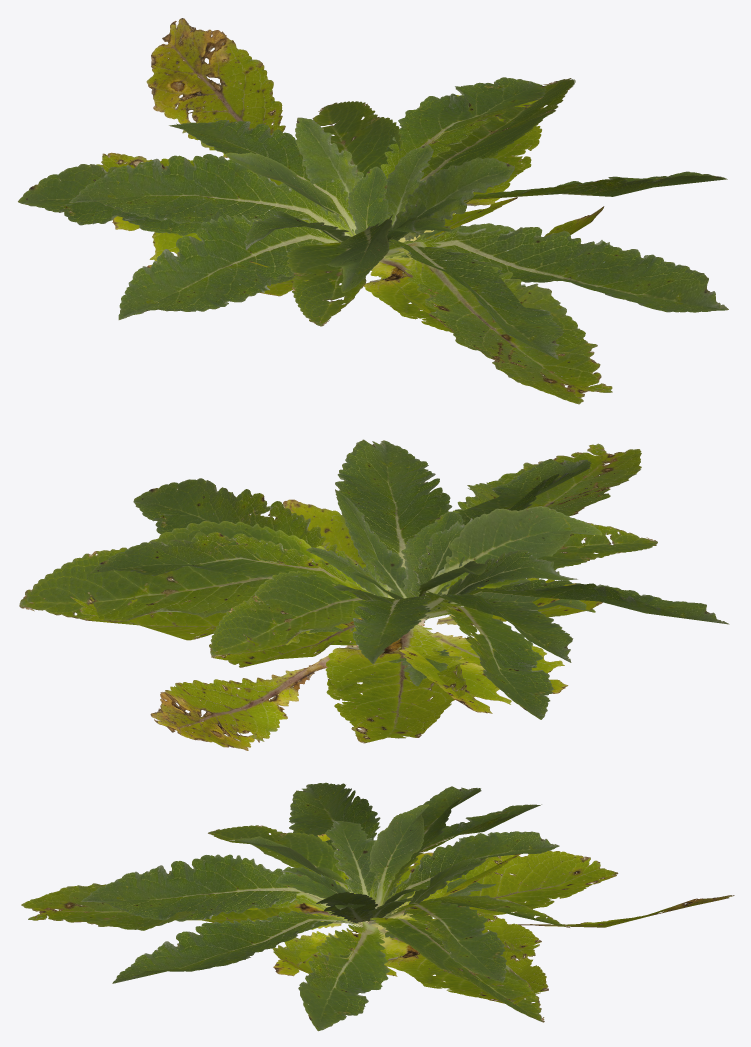
File: p_leafy_weeds_LOD0.fbx
3 renders of one model, top to bottom at view 1: azimuth 30°, elevation 25°; view 2: azimuth 150°, elevation 25°; view 3: azimuth 270°, elevation 25°, orthographic. The views are drawn at different scales.
Visible parts, largest first — view 1: _e9e1_Var1_LOD0, _b60e_Var2_LOD0, _97a7_Var3_LOD0; view 2: _e9e1_Var1_LOD0, _b60e_Var2_LOD0, _97a7_Var3_LOD0; view 3: _e9e1_Var1_LOD0, _b60e_Var2_LOD0, _97a7_Var3_LOD0.
Part boxes in pixels (box(x1,y1,x2,y2)): _e9e1_Var1_LOD0: box(69, 18, 728, 404); _b60e_Var2_LOD0: box(18, 77, 604, 359); _97a7_Var3_LOD0: box(244, 166, 514, 285); _e9e1_Var1_LOD0: box(19, 439, 729, 750); _b60e_Var2_LOD0: box(90, 459, 591, 743); _97a7_Var3_LOD0: box(304, 518, 595, 686); _e9e1_Var1_LOD0: box(21, 782, 734, 1031); _b60e_Var2_LOD0: box(80, 804, 618, 982); _97a7_Var3_LOD0: box(262, 820, 495, 967).
Size of the model in its own units: 159 by 27.83 by 204.
